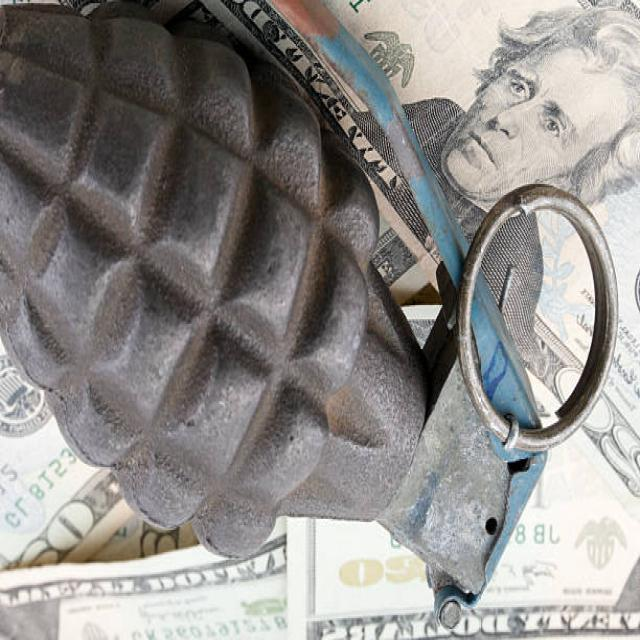grenade: (1, 1, 630, 640)
